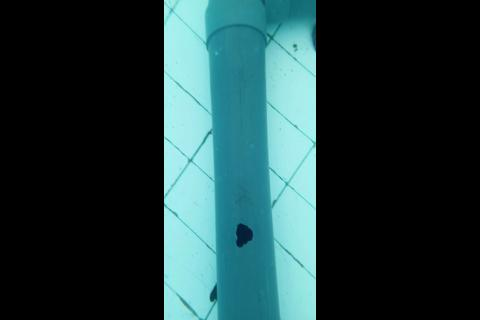kebocoran: (235, 221, 253, 248)
